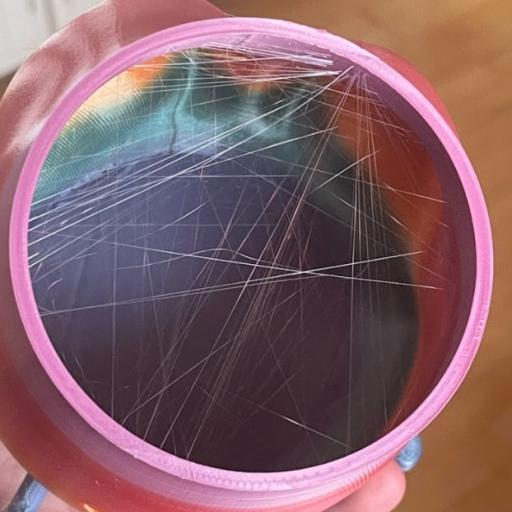stringing: (104, 46, 399, 460)
